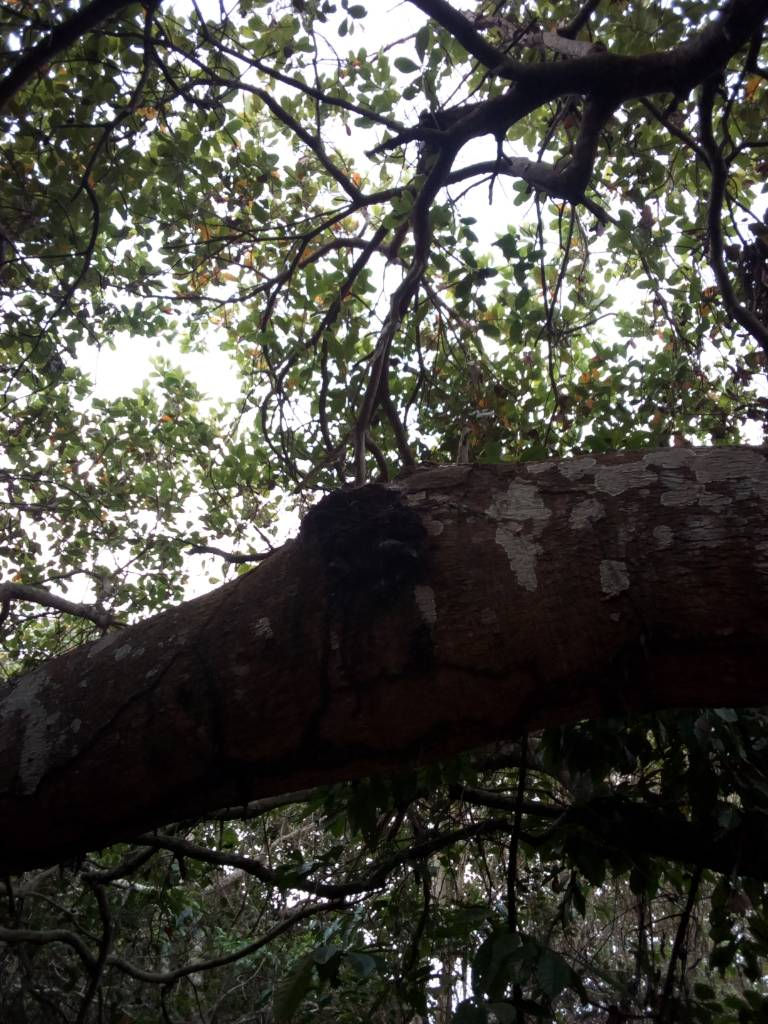Termites: (299, 480, 433, 580)
